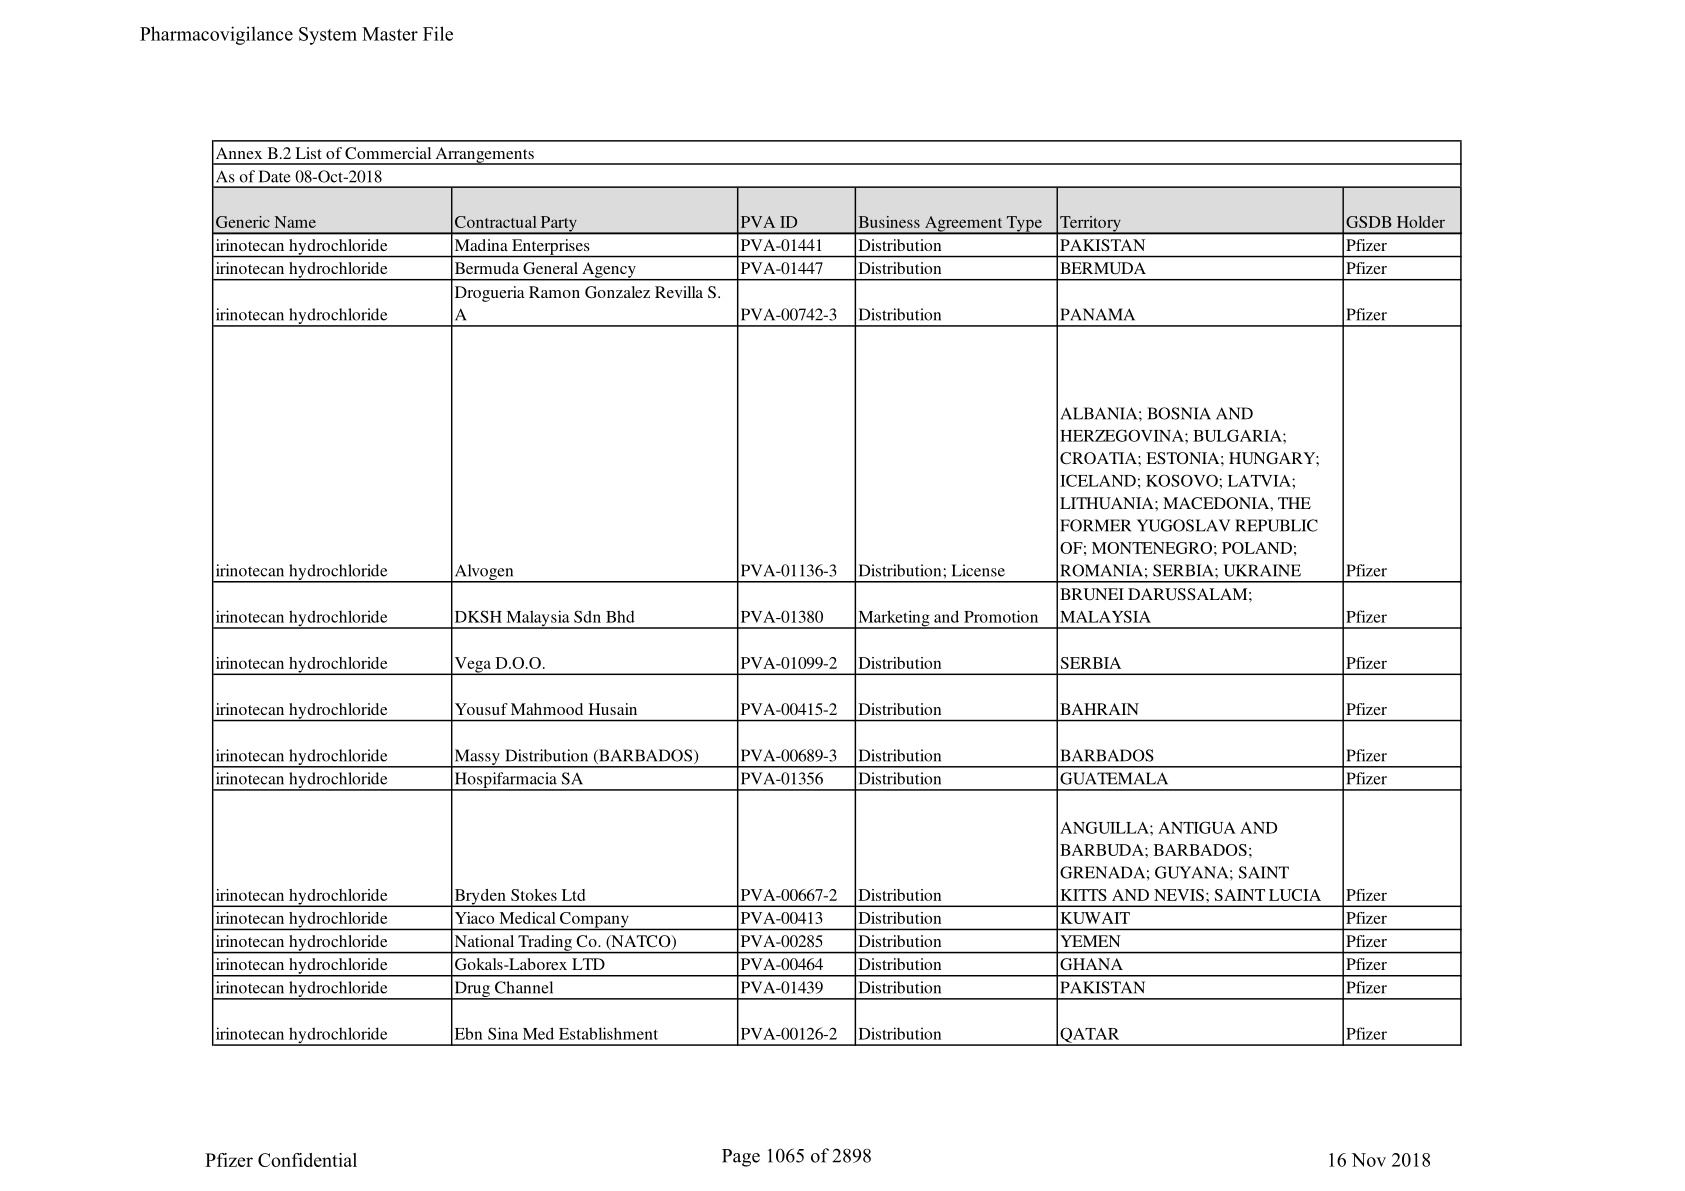merged_cells: (211, 139, 1462, 1047)
